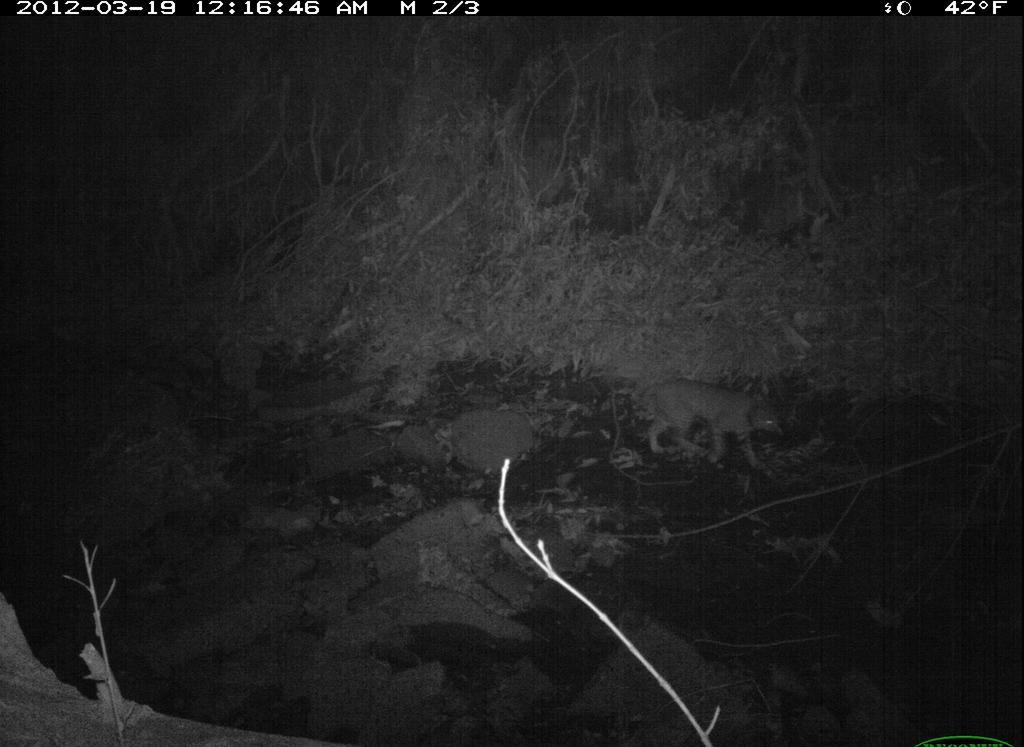bobcat: (626, 370, 799, 473)
